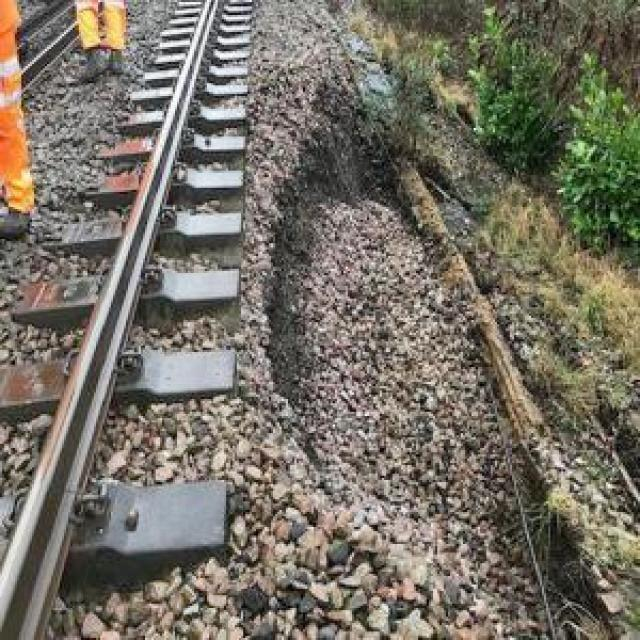rail: (1, 1, 244, 640)
